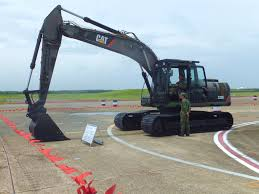excavator: (23, 6, 237, 138)
